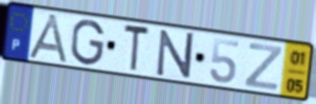5: (208, 36, 241, 84)
A: (25, 13, 72, 66)
G: (69, 18, 107, 67)
N: (155, 29, 195, 81)
T: (123, 22, 152, 74)
Z: (241, 41, 284, 93)
